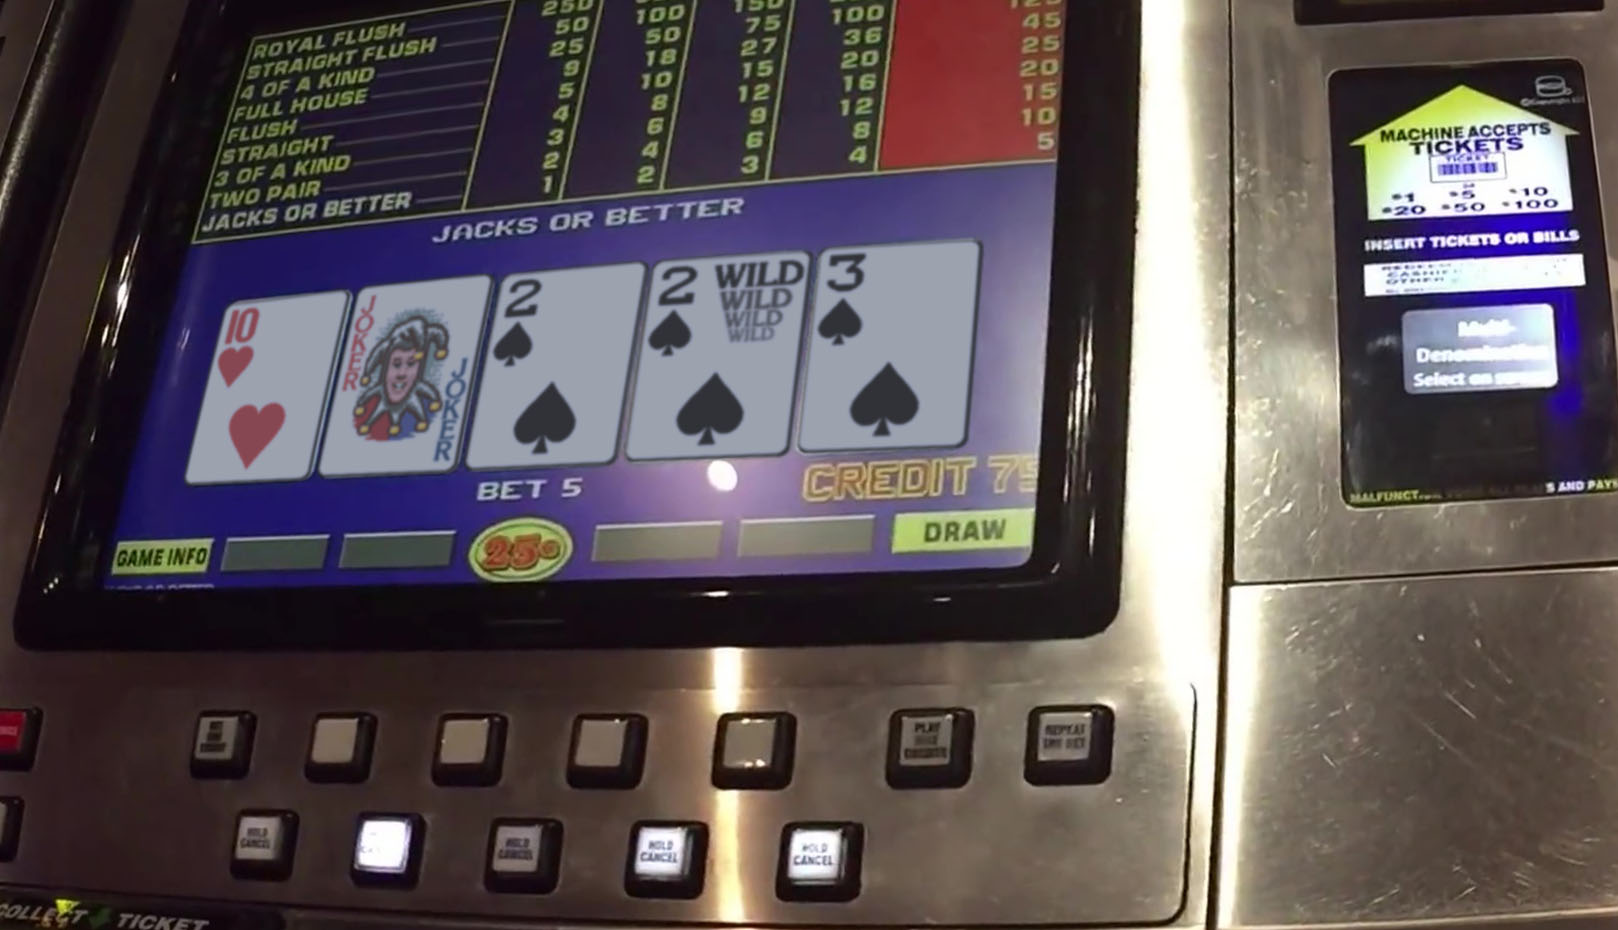HT: (217, 299, 340, 394)
S2: (495, 268, 637, 376)
S2W: (653, 258, 795, 371)
S3: (816, 248, 973, 357)
joker: (352, 284, 471, 382)
